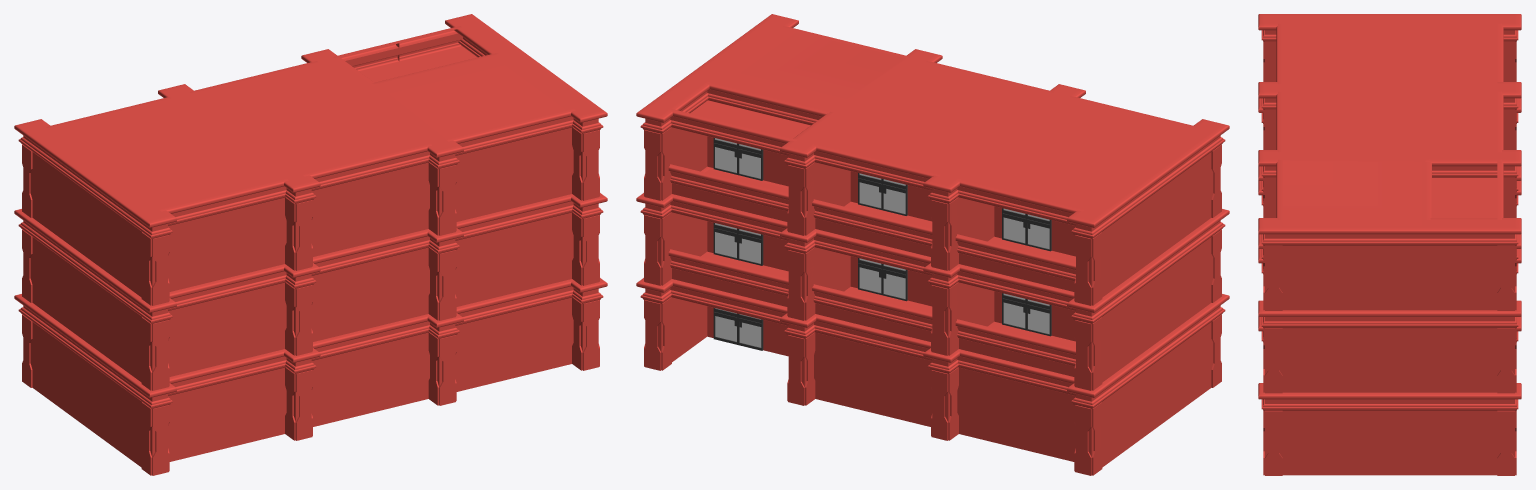
Rendered from Prop_Building_6.fbx.
3 views of the same model, side by side, from view 1: azimuth 30°, elevation 25°; view 2: azimuth 150°, elevation 25°; view 3: azimuth 270°, elevation 25° (orthographic). The views are drawn at different scales.
Parts seen in each view (by area): view 1: BrickWallLight_Window_V1_1.187, Cornice_Corner_LightGray_V2.010, Metal_Panel_V1_3.047, Metal_Panel_V1_3.008, Cornice_Corner_LightGray_V2.008, Cornice_Corner_LightGray_V2.014, Cornice_LightGray_V2.028, Cornice_LightGray_V2.027; view 2: Cornice_Corner_LightGray_V2.010, BrickWallLight_Window_V1_1.187, Metal_Panel_V1_3.047, Metal_Panel_V1_3.008, Cornice_LightGray_V2.111, Cornice_Corner_LightGray_V2.008, Cornice_Corner_LightGray_V2.014, Metal_Panel_V1_3.055, Double_Door.001, Double_Door.002, Double_Door, Double_Door.003 (+9 smaller); view 3: Cornice_Corner_LightGray_V2.010, BrickWallLight_Window_V1_1.187, Metal_Panel_V1_3.047, Metal_Panel_V1_3.008, Cornice_Corner_LightGray_V2.008, Cornice_Corner_LightGray_V2.014, Metal_Panel_V1_3.055.
Part boxes in pixels (x1=…): BrickWallLight_Window_V1_1.187: x1=32, y1=46, x2=573, y2=382; Cornice_Corner_LightGray_V2.010: x1=14, y1=14, x2=607, y2=238; Metal_Panel_V1_3.047: x1=32, y1=297, x2=573, y2=467; Metal_Panel_V1_3.008: x1=22, y1=127, x2=599, y2=475; Cornice_Corner_LightGray_V2.008: x1=14, y1=193, x2=607, y2=323; Cornice_Corner_LightGray_V2.014: x1=14, y1=278, x2=607, y2=408; Cornice_LightGray_V2.028: x1=396, y1=26, x2=462, y2=61; Cornice_LightGray_V2.027: x1=333, y1=41, x2=399, y2=71; Cornice_Corner_LightGray_V2.010: x1=636, y1=14, x2=1229, y2=238; BrickWallLight_Window_V1_1.187: x1=670, y1=100, x2=1211, y2=382; Metal_Panel_V1_3.047: x1=670, y1=297, x2=1211, y2=467; Metal_Panel_V1_3.008: x1=644, y1=127, x2=1221, y2=475; Cornice_LightGray_V2.111: x1=668, y1=164, x2=1075, y2=366; Cornice_Corner_LightGray_V2.008: x1=636, y1=166, x2=1229, y2=323; Cornice_Corner_LightGray_V2.014: x1=636, y1=278, x2=1229, y2=408; Metal_Panel_V1_3.055: x1=644, y1=212, x2=671, y2=285; Double_Door.001: x1=713, y1=223, x2=763, y2=265; Double_Door.002: x1=713, y1=138, x2=763, y2=180; Double_Door: x1=713, y1=308, x2=763, y2=350; Double_Door.003: x1=858, y1=258, x2=907, y2=301; Cornice_Corner_LightGray_V2.010: x1=1258, y1=14, x2=1521, y2=245; BrickWallLight_Window_V1_1.187: x1=1282, y1=177, x2=1497, y2=392; Metal_Panel_V1_3.047: x1=1282, y1=410, x2=1497, y2=475; Metal_Panel_V1_3.008: x1=1263, y1=41, x2=1516, y2=475; Cornice_Corner_LightGray_V2.008: x1=1258, y1=98, x2=1521, y2=328; Cornice_Corner_LightGray_V2.014: x1=1258, y1=180, x2=1521, y2=410; Metal_Panel_V1_3.055: x1=1497, y1=328, x2=1516, y2=393.
Bounding box in the file's own units: 1436 × 764 × 736.
